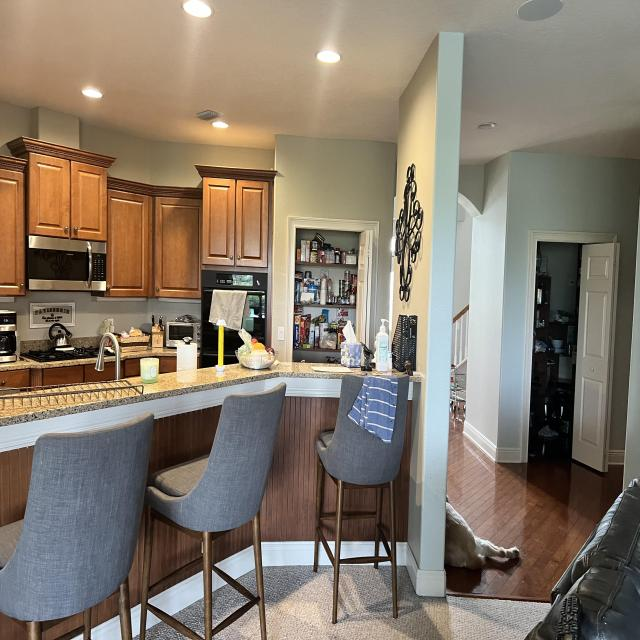Appliance_Microwave: (28, 236, 107, 292)
Appliance_Oven: (201, 268, 268, 367)
Appliance_Sink: (95, 332, 120, 380)
Appliance_Stove: (21, 323, 95, 362)
Cabinet_Flat: (0, 359, 115, 389), (121, 359, 140, 378), (160, 358, 177, 374)
Cabinet_Raised_Panel: (0, 138, 276, 300)
Countertop_Granite: (143, 362, 406, 393), (0, 358, 95, 372), (120, 346, 176, 360)
